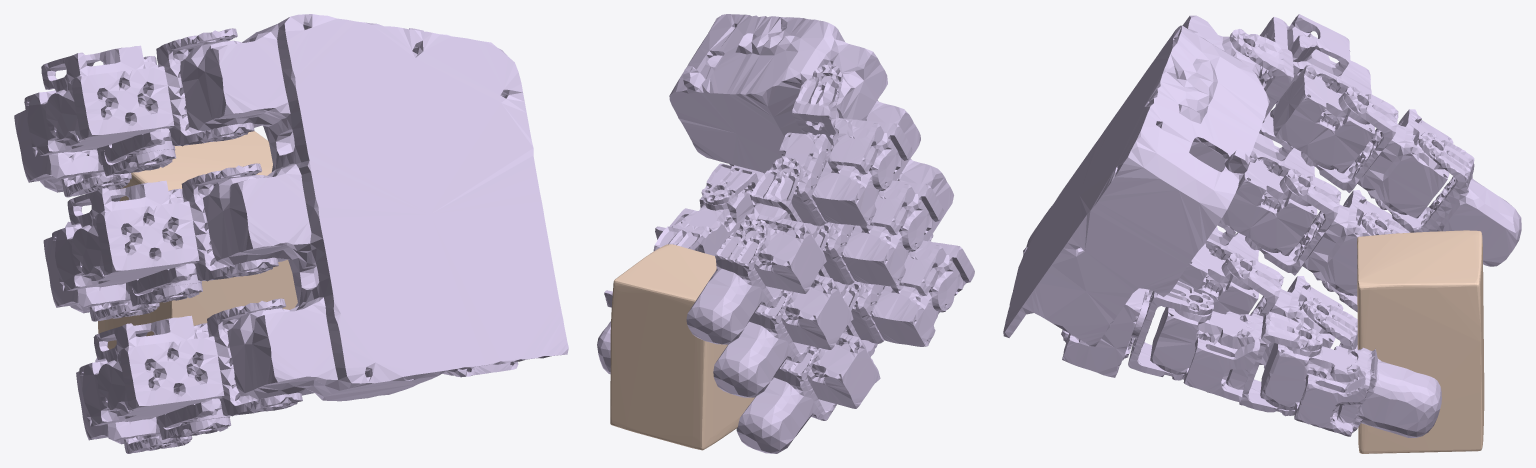
File: 67855981c44220-closed.glb
3 views of the same model, side by side, from view 1: azimuth 30°, elevation 25°; view 2: azimuth 150°, elevation 25°; view 3: azimuth 270°, elevation 25° (orthographic). The views are drawn at different scales.
Visible parts, largest first — view 1: LEAP_hand, world; view 2: LEAP_hand, world; view 3: LEAP_hand, world.
Boxes of the visible parts, box(x1,y1,x2,y2) form: LEAP_hand: box(14, 14, 568, 453); world: box(98, 131, 297, 349); LEAP_hand: box(597, 14, 974, 453); world: box(610, 244, 755, 450); LEAP_hand: box(1003, 14, 1521, 437); world: box(1357, 230, 1484, 453).
Size of the model in its own units: 0.145 by 0.1831 by 0.2094.
